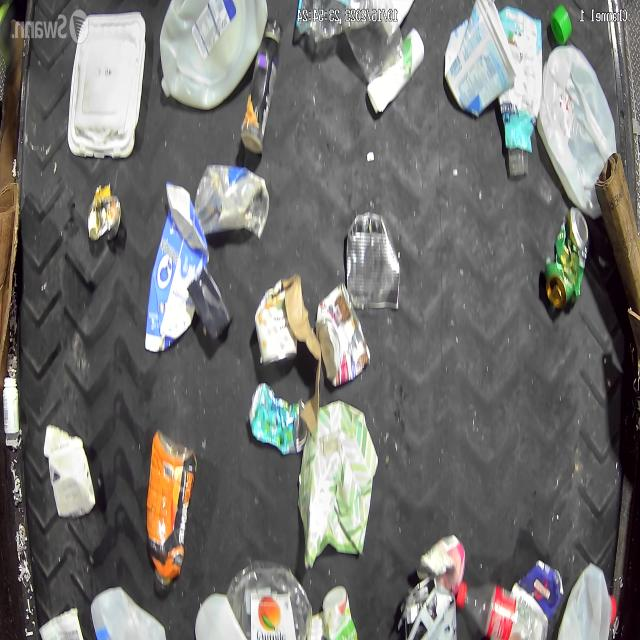can: (315, 282, 371, 386), (344, 211, 400, 313), (545, 207, 589, 310), (247, 382, 306, 455), (254, 278, 297, 366), (415, 533, 466, 594), (88, 187, 120, 241)
milk_jug: (536, 46, 614, 218), (158, 0, 268, 109), (90, 585, 170, 639), (556, 567, 612, 639), (195, 593, 256, 639)
non_white_jug: (145, 182, 210, 352)
plastic_bottle: (225, 557, 314, 640), (453, 584, 547, 640)
